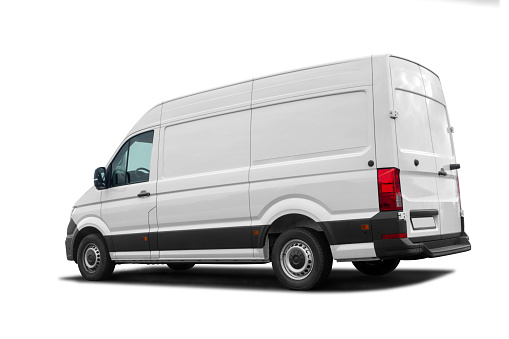van: (62, 53, 473, 290)
